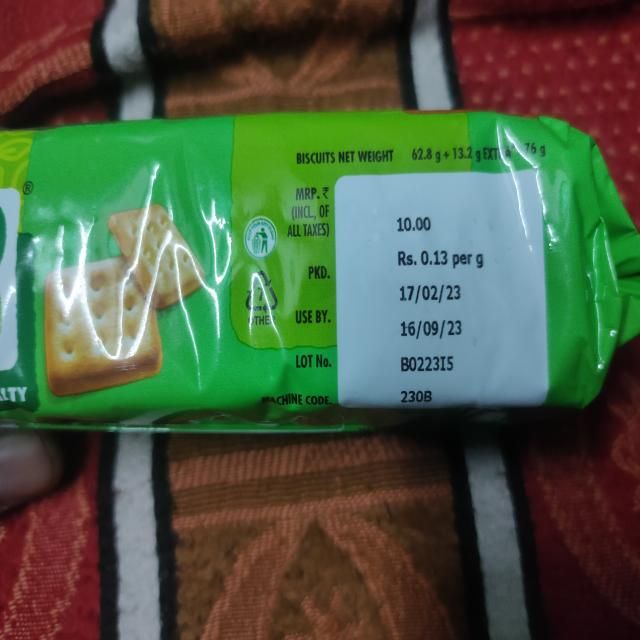50 50 biscuit: (0, 114, 638, 423)
